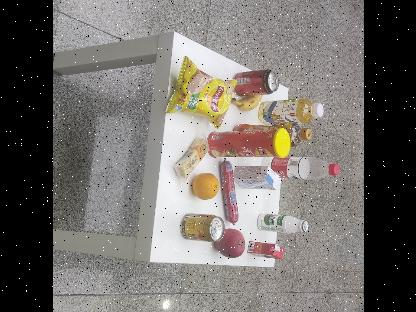Can: (180, 214, 224, 242), (232, 70, 278, 96)
Others: (206, 125, 290, 160), (233, 163, 280, 193), (245, 239, 285, 261)
Plastic Bottle: (269, 156, 339, 181)
